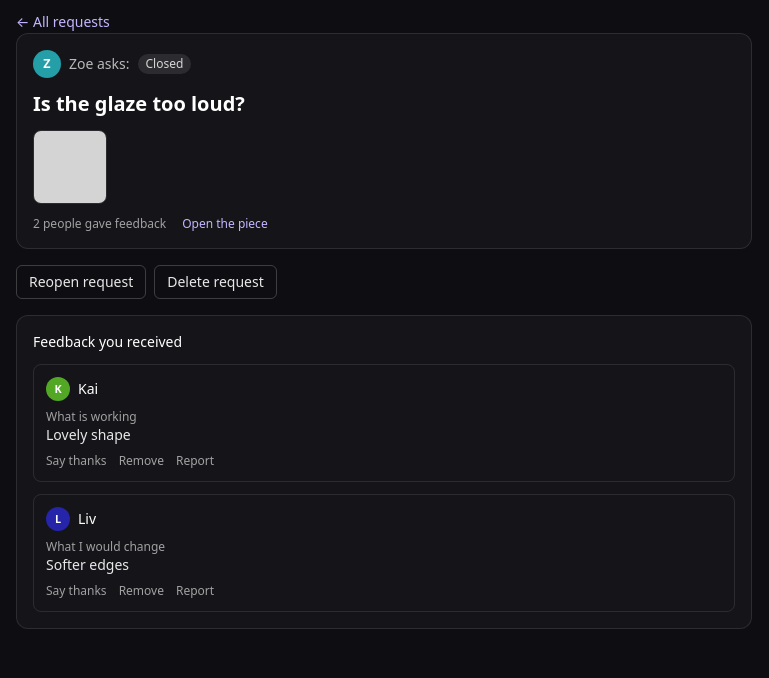
Scenario: CritiquePage: the maker › says why it couldn't reopen
The width and height of the screenshot is (769, 678).
Click the button "Reopen request": (81, 282) [16,265,146,299]
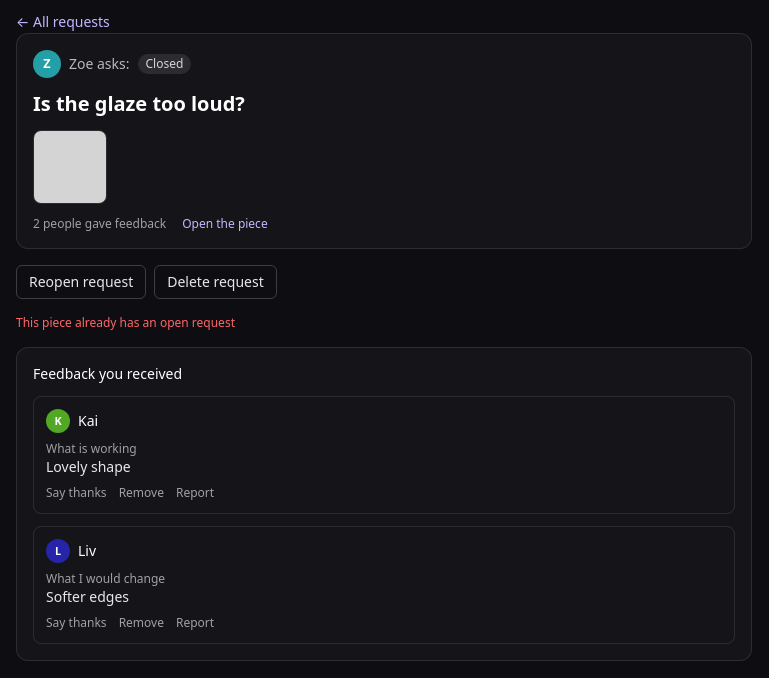
Check: the message shows "already has an open request", box [16,314,235,331]
